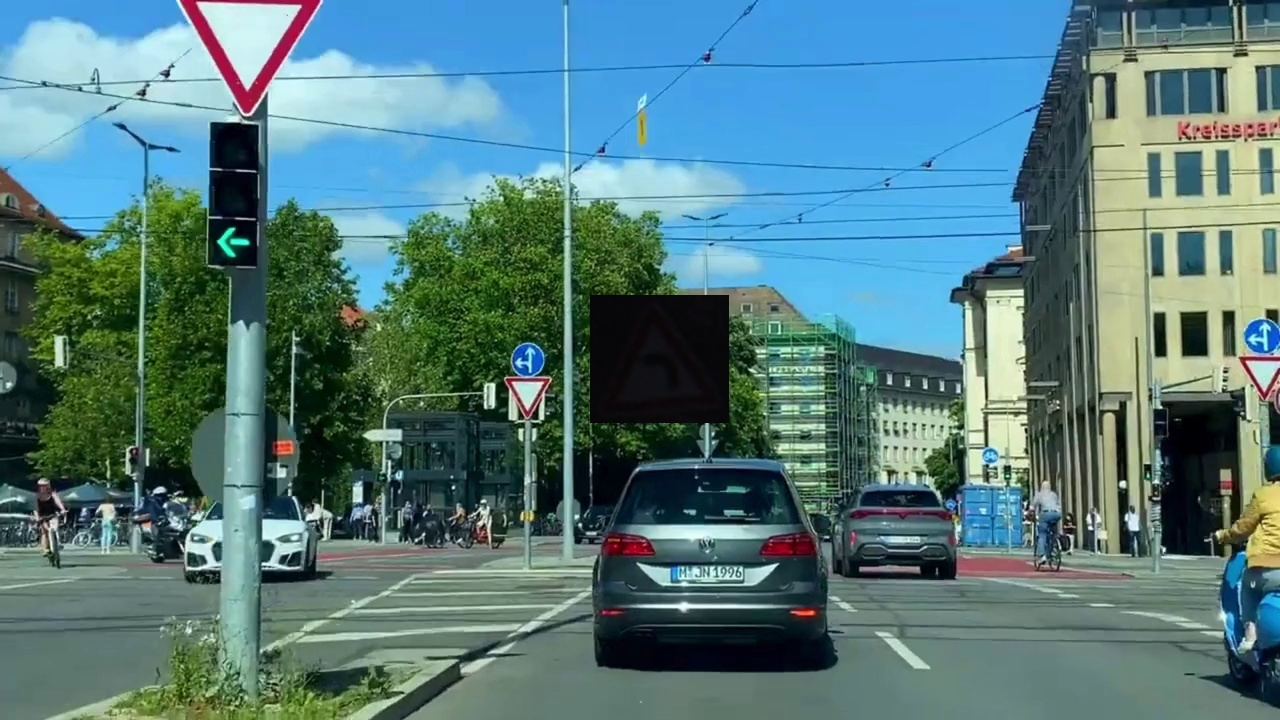Curve left: (590, 295, 729, 423)
